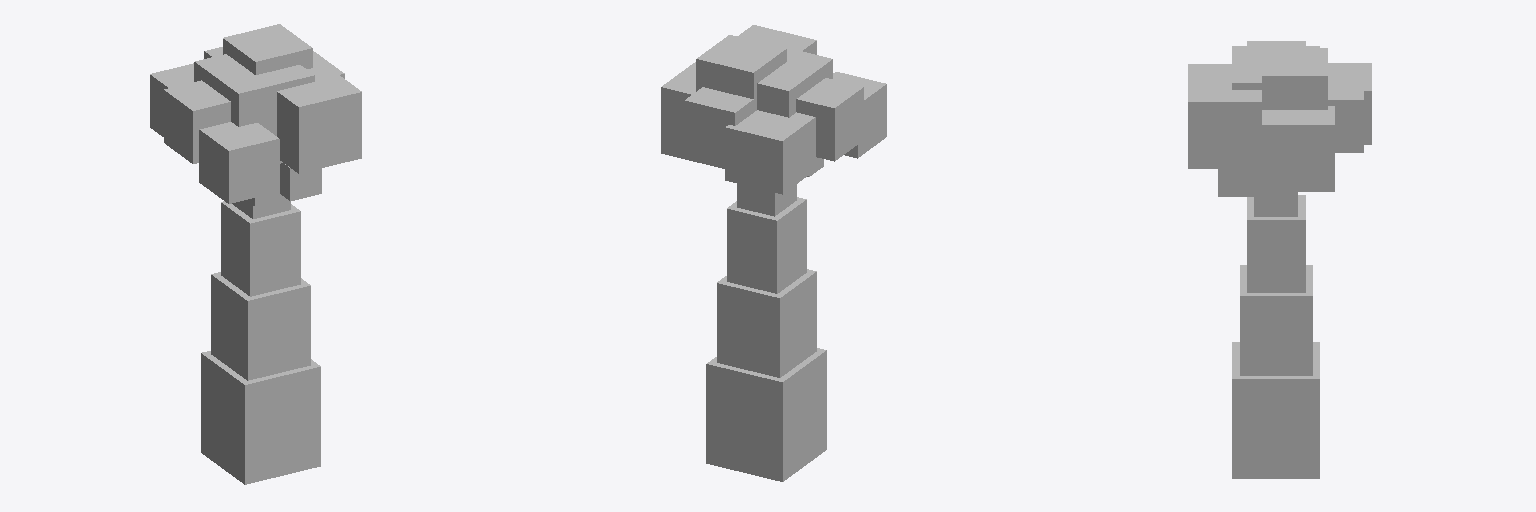
Rendered from obj.palm tree.obj.
3 views of the same model, side by side, from view 1: azimuth 30°, elevation 25°; view 2: azimuth 150°, elevation 25°; view 3: azimuth 270°, elevation 25° (orthographic).
Visible parts, largest first — view 1: object 1; view 2: object 1; view 3: object 1.
Boxes of the visible parts, x1=… form: object 1: x1=150, y1=24, x2=361, y2=484; object 1: x1=661, y1=25, x2=886, y2=481; object 1: x1=1188, y1=41, x2=1371, y2=478.
Size of the model in its own units: 2.5 by 6.1 by 2.5.